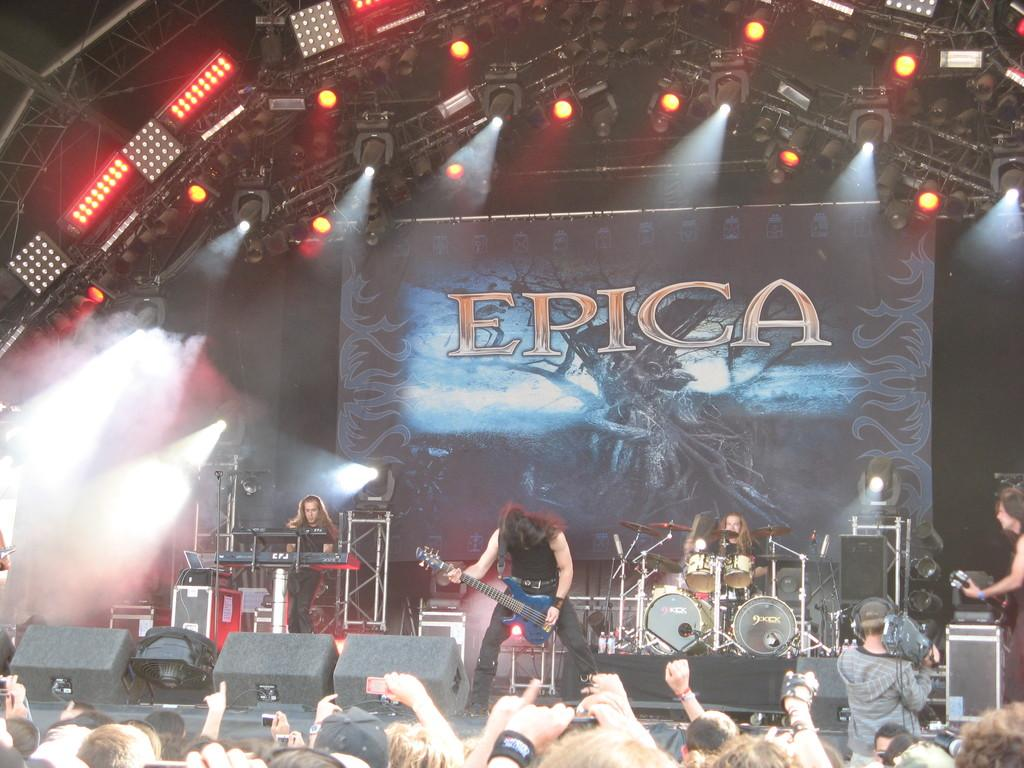Sem Máscara: (994, 495, 1016, 531), (302, 500, 318, 522), (724, 513, 742, 532)
